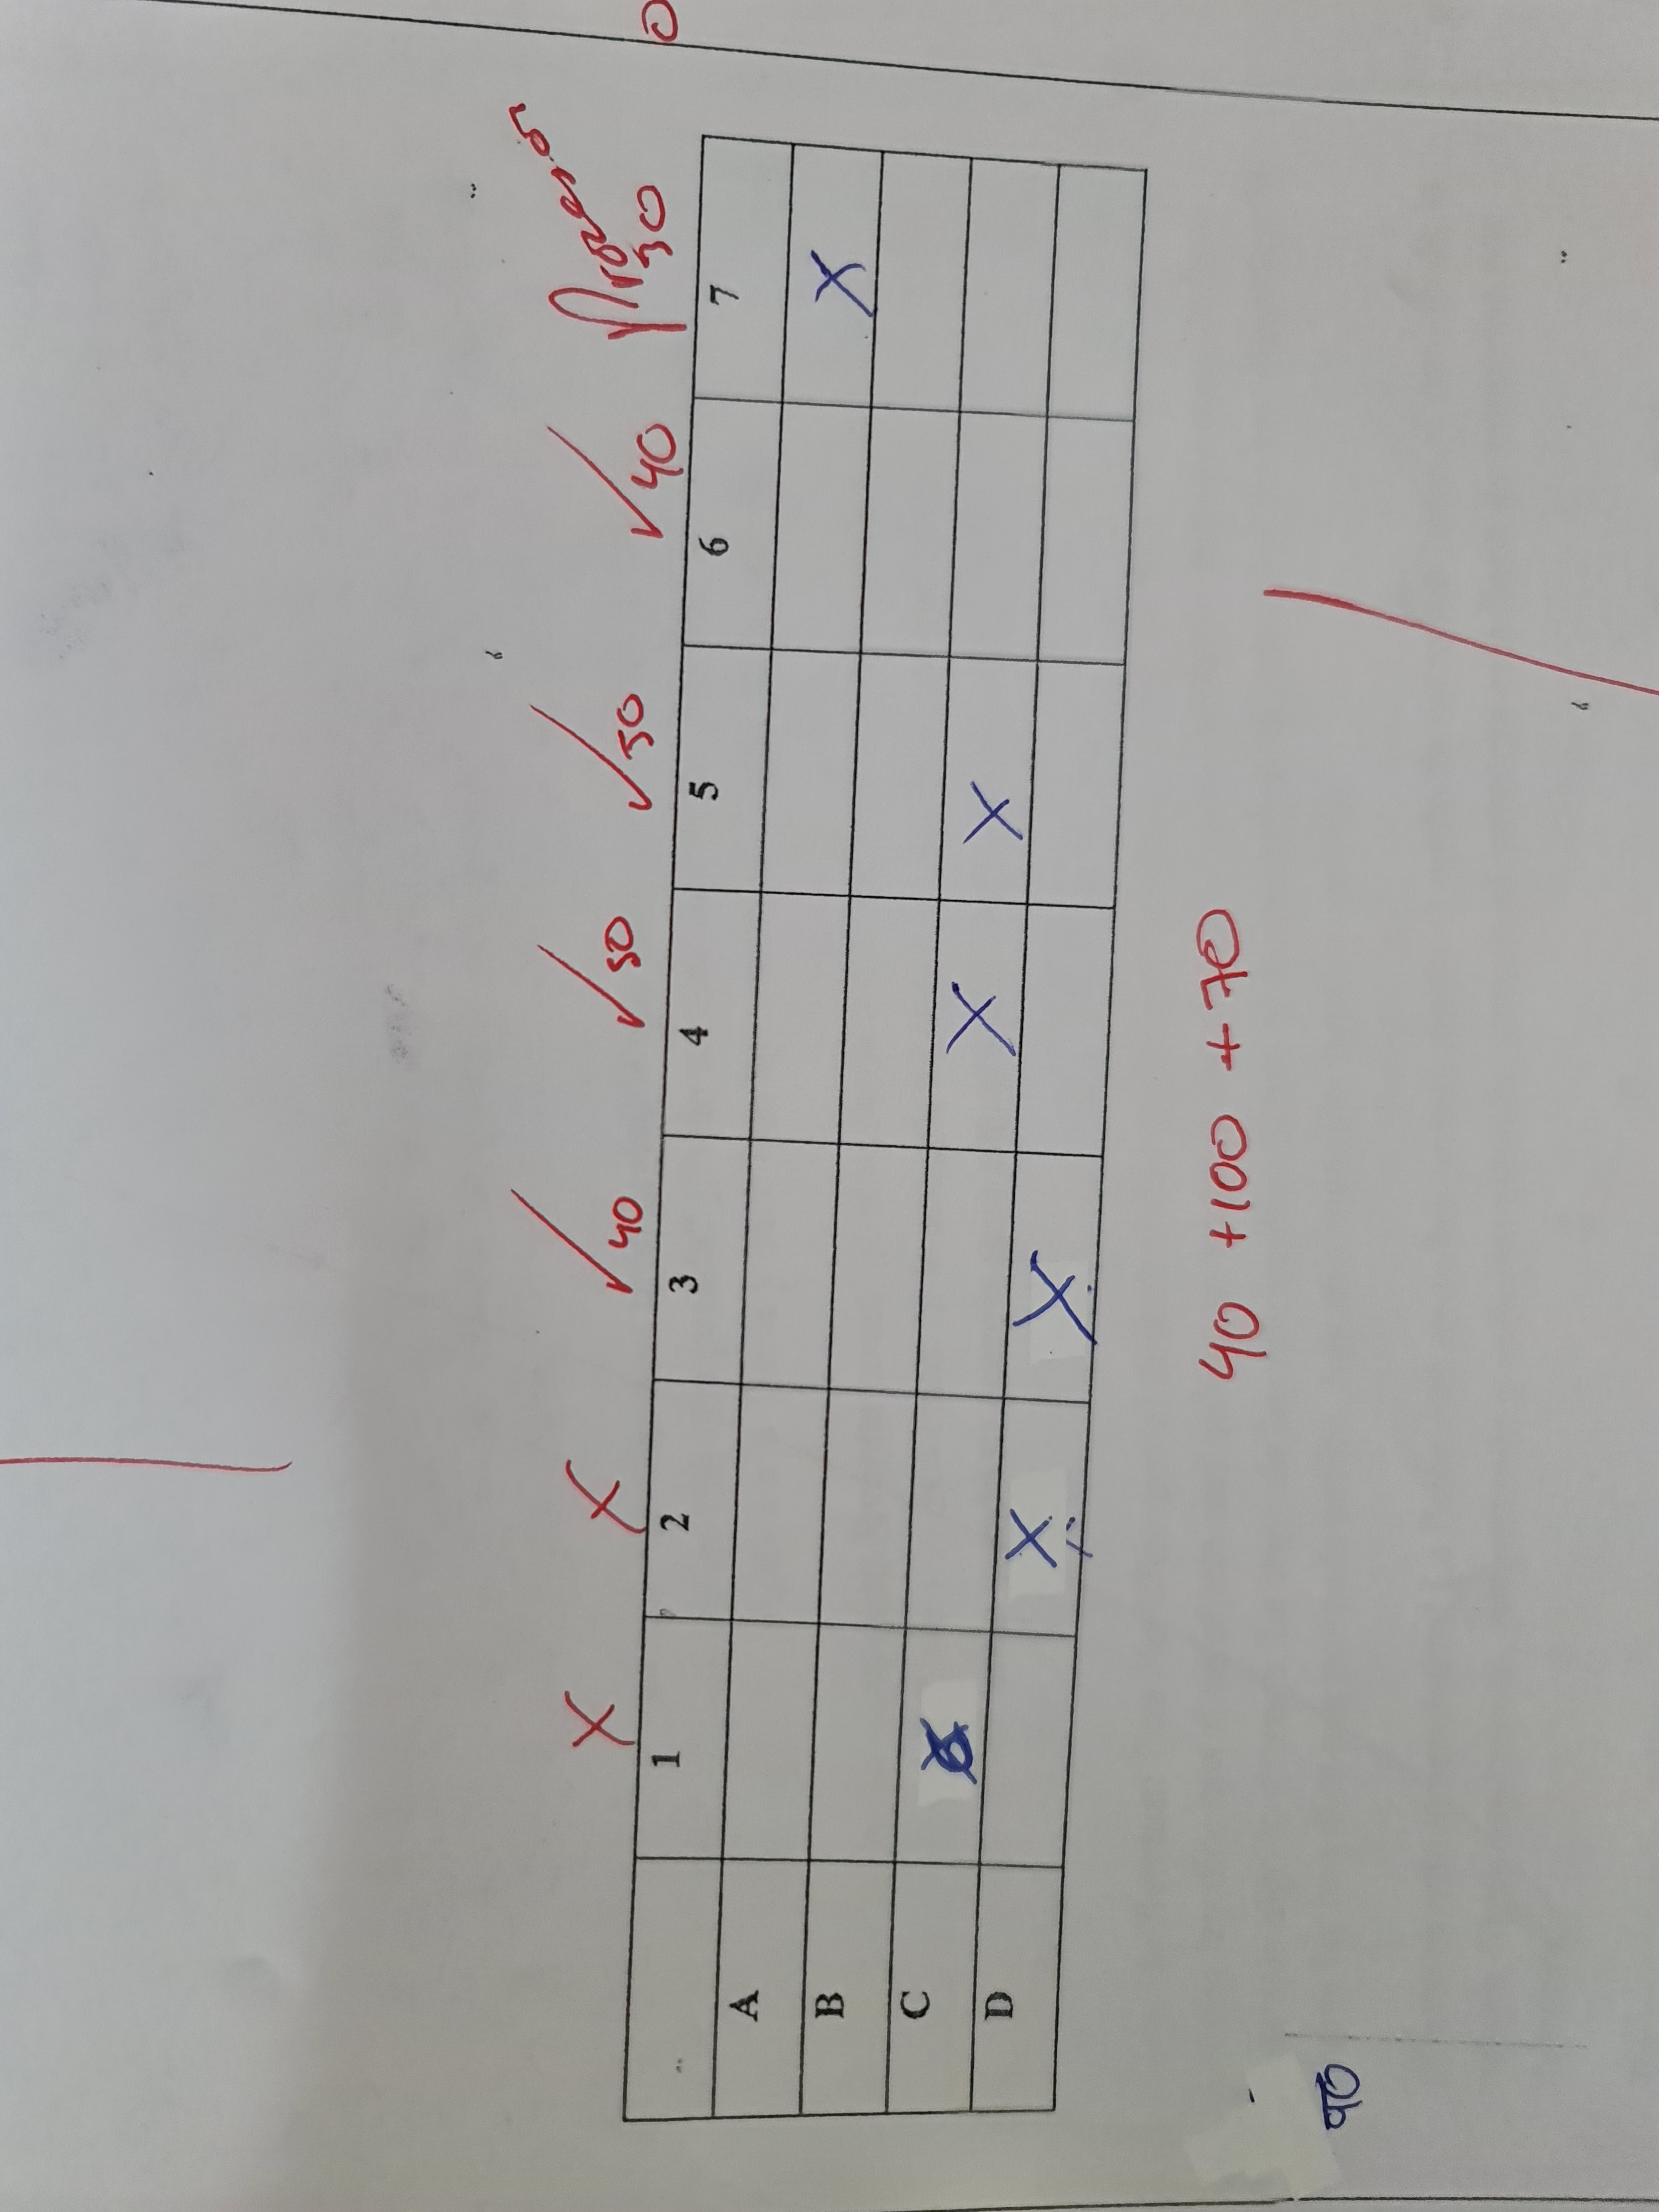column: (641, 866, 1140, 1170), (641, 1120, 1155, 1411), (652, 627, 1155, 923), (617, 1844, 1075, 2146), (619, 1609, 1098, 1881), (633, 1374, 1122, 1639)
